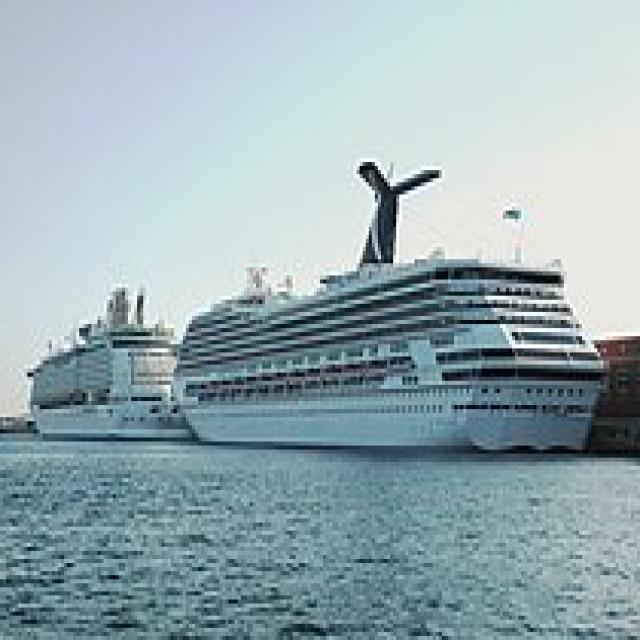Cruise: (168, 154, 612, 450), (27, 276, 186, 442)
